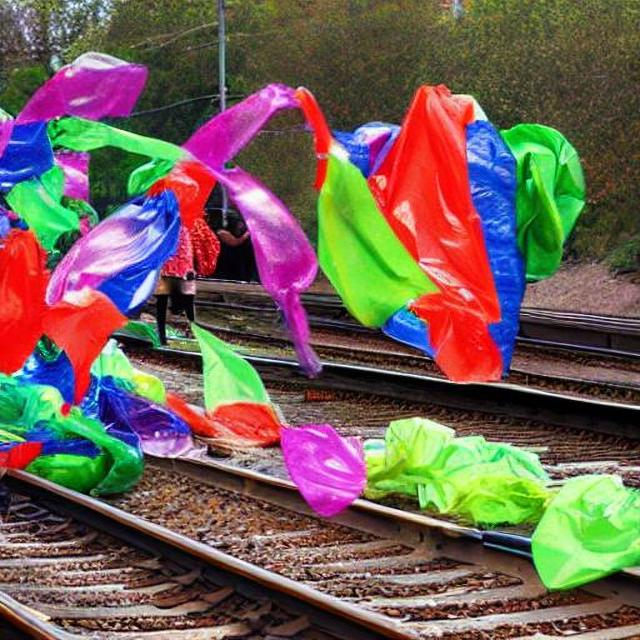plastic bag: (4, 56, 270, 495), (226, 80, 570, 378), (61, 78, 385, 381), (274, 394, 640, 600), (497, 116, 585, 280)
